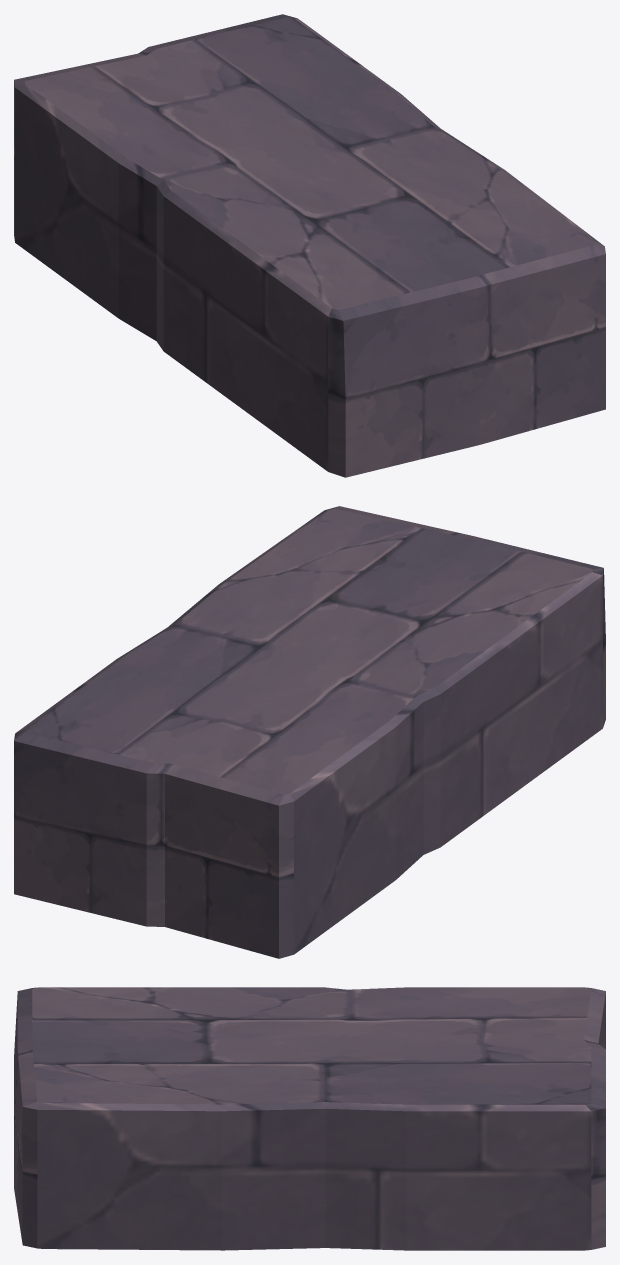
File: Stone_brick_d.FBX
3 renders of one model, top to bottom at view 1: azimuth 30°, elevation 25°; view 2: azimuth 150°, elevation 25°; view 3: azimuth 270°, elevation 25°, orthographic. The views are drawn at different scales.
Visible parts, largest first — view 1: Box024; view 2: Box024; view 3: Box024.
Boxes of the visible parts, x1=… form: Box024: x1=14, y1=14, x2=605, y2=477; Box024: x1=14, y1=506, x2=605, y2=958; Box024: x1=14, y1=987, x2=605, y2=1250.
Bounding box in the file's own units: 1.75 × 0.9647 × 3.55.
Materials: 1 (1 with a texture image).
